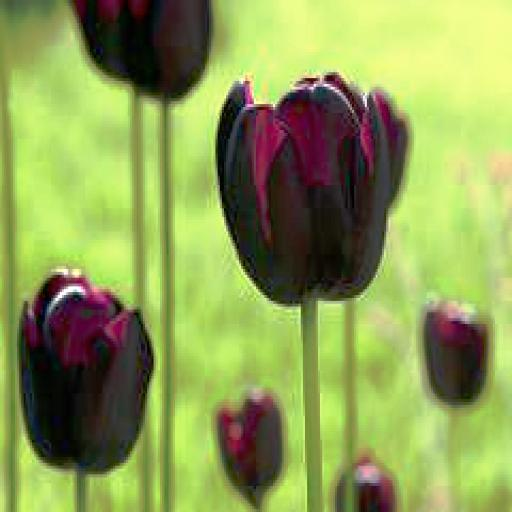tulip: (214, 66, 388, 306), (17, 260, 154, 478)
